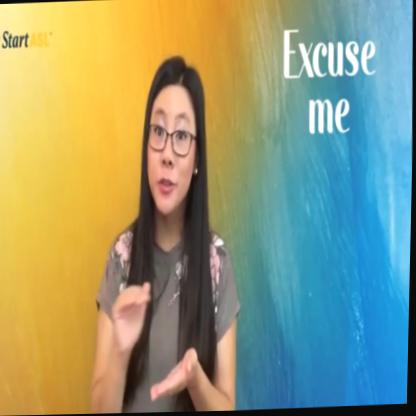ExcuseMe: (109, 267, 209, 414)
